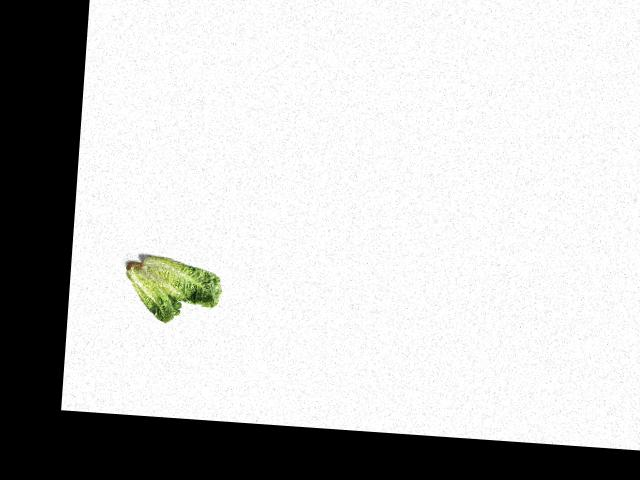lettuce: (118, 258, 184, 324)
